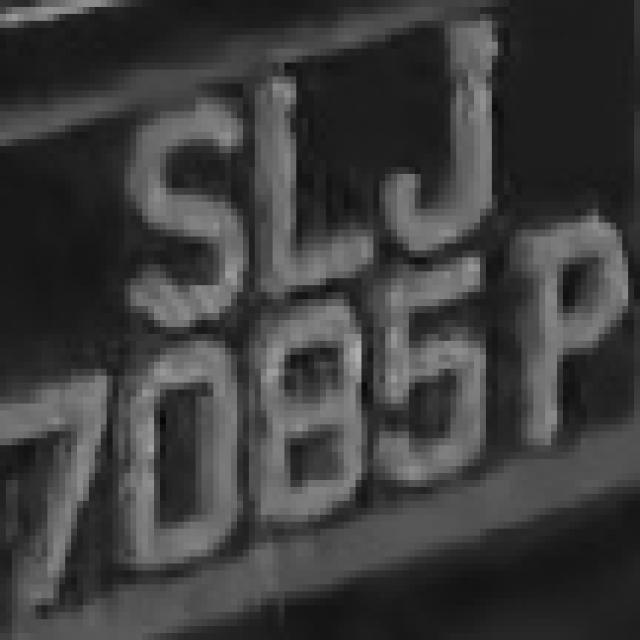0: (112, 327, 249, 570)
5: (373, 257, 504, 508)
7: (12, 362, 107, 619)
8: (243, 313, 379, 543)
J: (380, 21, 540, 250)
L: (243, 49, 391, 299)
P: (510, 223, 634, 459)
S: (101, 97, 243, 327)
